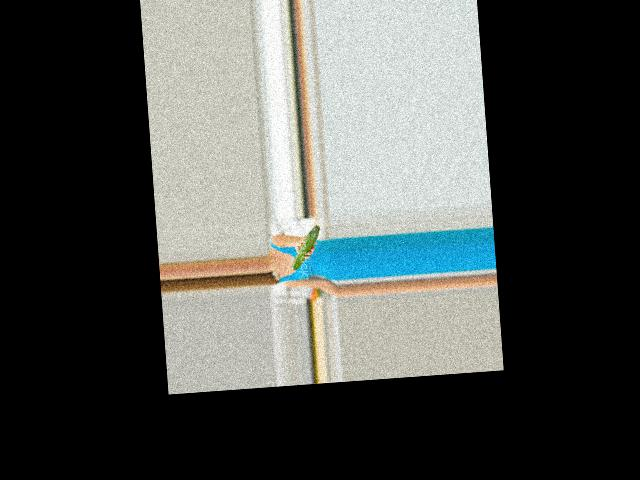cucumber: (289, 225, 323, 270)
